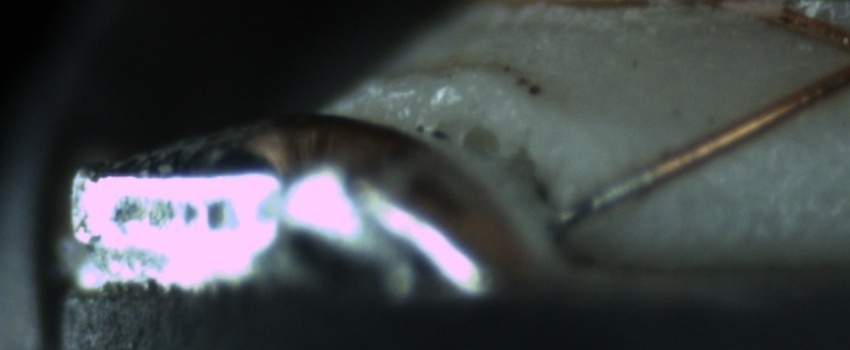TS: (556, 165, 655, 228)
